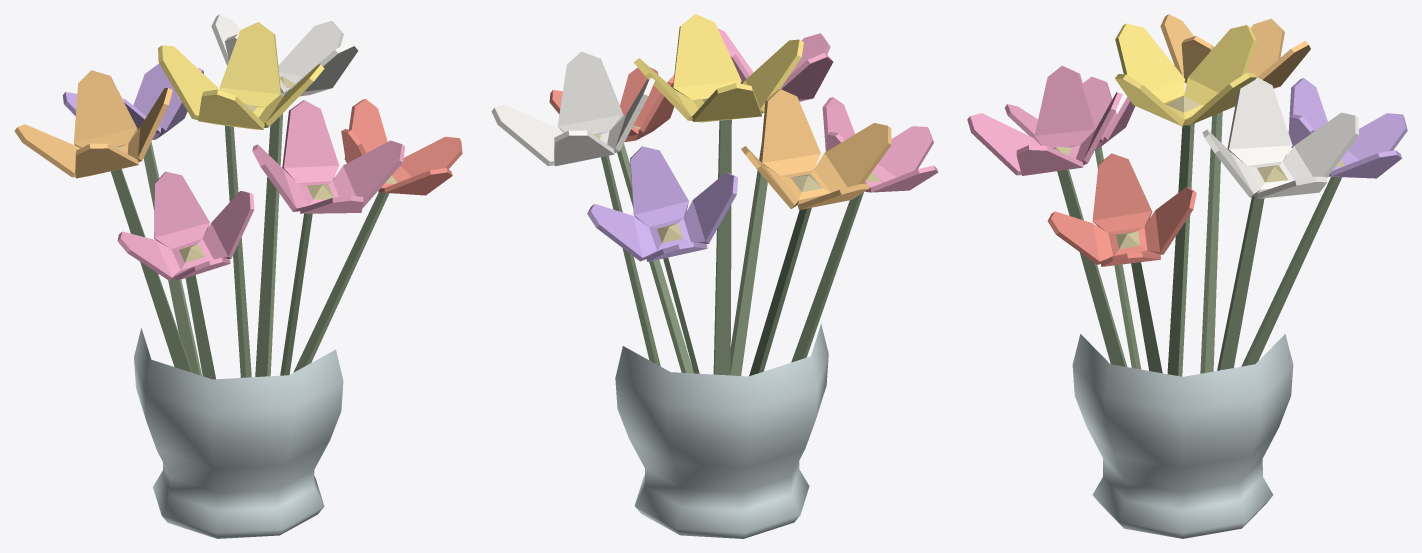
Rendered from gris_flowers.glb.
The picture shows the model from 3 angles, left to right: view 1: azimuth 30°, elevation 25°; view 2: azimuth 150°, elevation 25°; view 3: azimuth 270°, elevation 25°; orthographic projection.
Visible parts, largest first — view 1: Glass, PetalsPink, Green, PetalsYellow, PetalsOrange, PetalsRed, PetalsWhite, PetalsPurple, Yellow; view 2: Glass, Green, PetalsOrange, PetalsPurple, PetalsYellow, PetalsWhite, PetalsPink, PetalsRed, Yellow; view 3: Glass, Green, PetalsPink, PetalsWhite, PetalsYellow, PetalsRed, PetalsPurple, PetalsOrange, Yellow.
Boxes of the visible parts, <box> form: Glass: <box>134,328,343,538</box>; PetalsPink: <box>117,100,405,280</box>; Green: <box>110,113,389,379</box>; PetalsYellow: <box>158,22,324,129</box>; PetalsOrange: <box>14,70,172,178</box>; PetalsRed: <box>341,99,462,195</box>; PetalsWhite: <box>211,14,358,96</box>; PetalsPurple: <box>62,64,203,139</box>; Yellow: <box>114,76,397,262</box>; Glass: <box>615,323,828,538</box>; Green: <box>601,119,863,376</box>; PetalsOrange: <box>741,89,891,209</box>; PetalsPurple: <box>587,146,737,261</box>; PetalsYellow: <box>634,14,803,122</box>; PetalsWhite: <box>491,51,654,166</box>; PetalsPink: <box>717,28,938,192</box>; PetalsRed: <box>549,67,674,141</box>; Yellow: <box>593,98,880,243</box>; Glass: <box>1072,334,1293,538</box>; Green: <box>1057,112,1341,376</box>; PetalsPink: <box>967,65,1135,175</box>; PetalsWhite: <box>1202,77,1358,198</box>; PetalsYellow: <box>1115,23,1256,126</box>; PetalsRed: <box>1047,153,1196,266</box>; PetalsPurple: <box>1288,78,1407,178</box>; PetalsOrange: <box>1160,14,1310,88</box>; Yellow: <box>1053,96,1345,249</box>.
Bounding box in the file's own units: 0.734 × 0.8361 × 0.7316.
